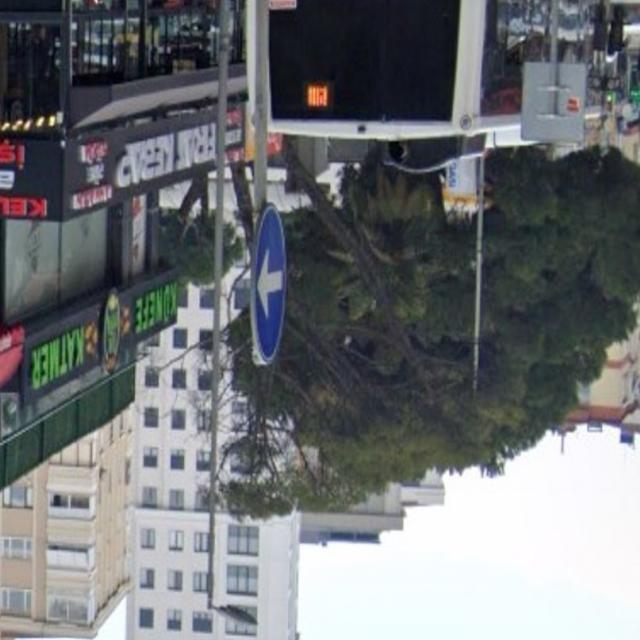Turn Left: (250, 208, 289, 362)
